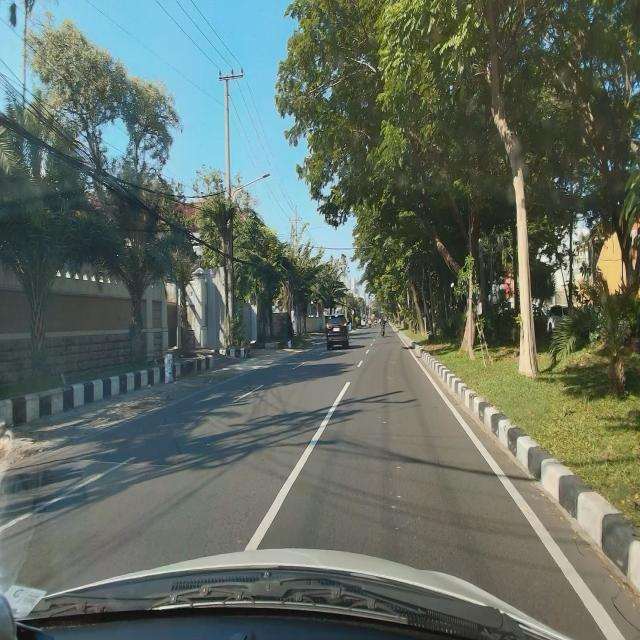car: (325, 314, 350, 350)
license-plate: (333, 327, 340, 332)
